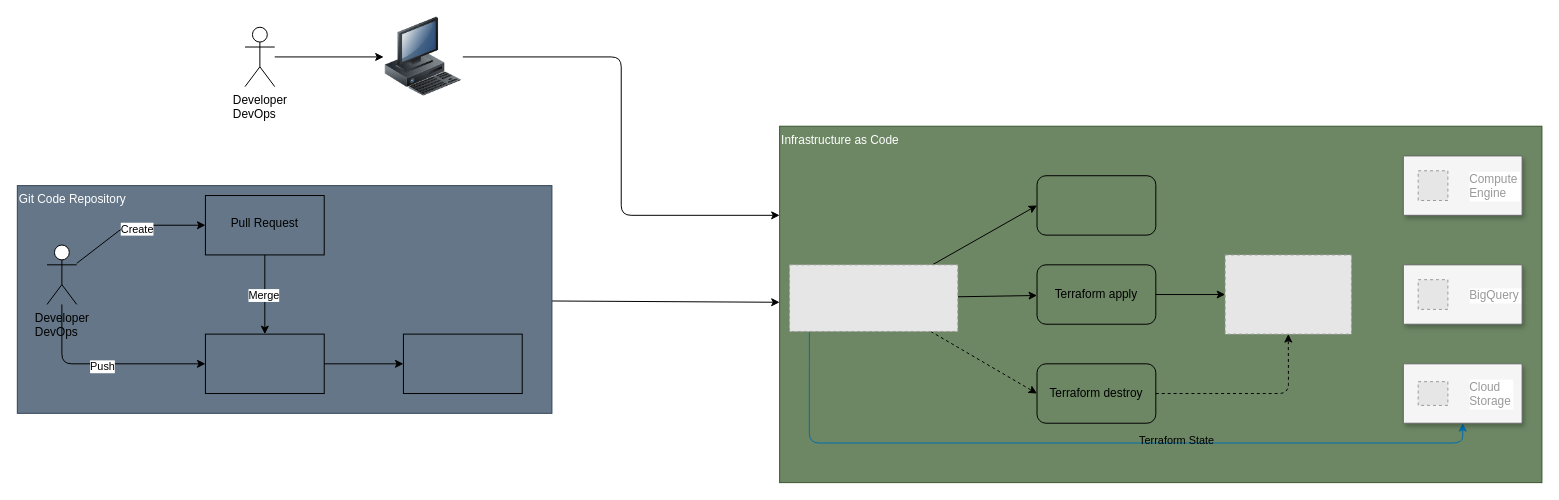
Image size: 1559x500. Some labels were removed from this diagram. Grey dashed boxes stand in for pictures. Here are the shapes that lost their labels. From the top down, the centre of each, then its label:
At [1096,205]: "Terraform init/plan".
At [264,363]: "Main".
At [462,363]: "GitHub Actions".
